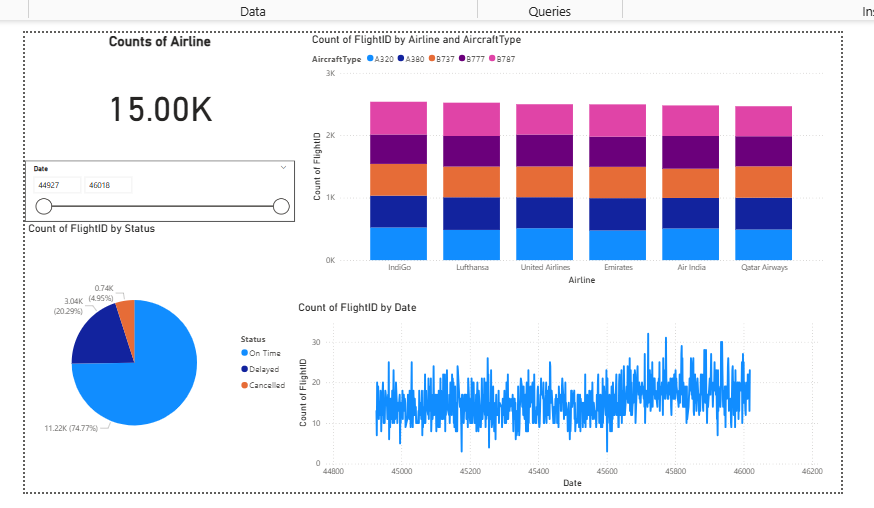

Layout of this report page (visuals, bound fields, positions):
{"tool":"powerbi","page":{"name":"Duplicate of Page 2","canvas":[1280,720],"ordinal":3},"visuals":[{"type":"card","title":"Counts of Airline","fields":{"Values":["CountNonNull(Sheet1.Airline)"]},"box":[0,0,423.5,200],"z":0},{"type":"lineChart","fields":{"Category":["Sheet1.Date"],"Y":["CountNonNull(Sheet1.FlightID)"]},"box":[423.5,419.6,833.3,300],"z":1000},{"type":"pieChart","fields":{"Category":["Sheet1.Status"],"Y":["CountNonNull(Sheet1.FlightID)"]},"box":[0,296.1,423.5,423.5],"z":3000},{"type":"slicer","fields":{"Values":["Sheet1.Date"]},"box":[0,200,423.5,96.1],"z":4000},{"type":"columnChart","fields":{"Category":["Sheet1.Airline"],"Series":["Sheet1.AircraftType"],"Y":["CountNonNull(Sheet1.FlightID)"]},"box":[445.1,0,811.8,400],"z":4001}]}

Visuals, with their boxes on the page's 1280x720 design canvas (x1, y1, x2, y2). These are canvas units, not pixel positions in the 874x508 screenshot, which may show the page scaled, cropped or inside an application window:
"Counts of Airline" card: crop(0, 0, 424, 200)
lineChart - Sheet1.Date x CountNonNull(Sheet1.FlightID): crop(424, 420, 1257, 720)
pieChart - Sheet1.Status x CountNonNull(Sheet1.FlightID): crop(0, 296, 424, 720)
slicer - Sheet1.Date: crop(0, 200, 424, 296)
columnChart - Sheet1.Airline x Sheet1.AircraftType: crop(445, 0, 1257, 400)
